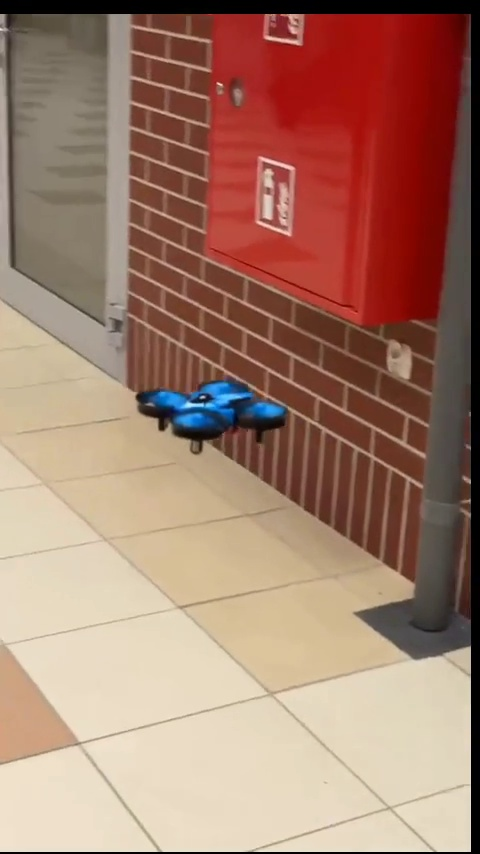drone: (141, 377, 295, 452)
